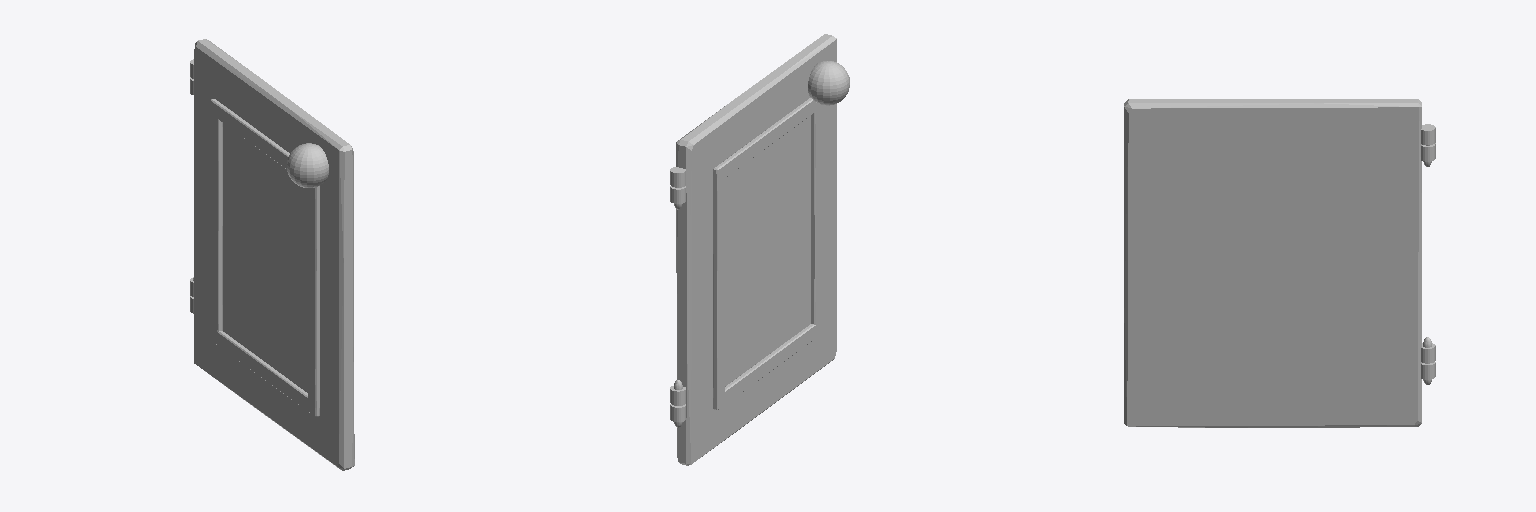
File: puertagab2.obj
3 renders of one model, left to right at view 1: azimuth 30°, elevation 25°; view 2: azimuth 150°, elevation 25°; view 3: azimuth 270°, elevation 25°, orthographic.
Parts seen in each view (by area): view 1: cuarto:cuarto:polySurface7193polySurface7484; view 2: cuarto:cuarto:polySurface7193polySurface7484; view 3: cuarto:cuarto:polySurface7193polySurface7484.
Boxes of the visible parts, box(x1,y1,x2,y2) form: cuarto:cuarto:polySurface7193polySurface7484: box(190, 39, 354, 470); cuarto:cuarto:polySurface7193polySurface7484: box(670, 34, 849, 465); cuarto:cuarto:polySurface7193polySurface7484: box(1124, 99, 1435, 427).
Size of the model in its own units: 0.1729 by 1.17 by 1.02.